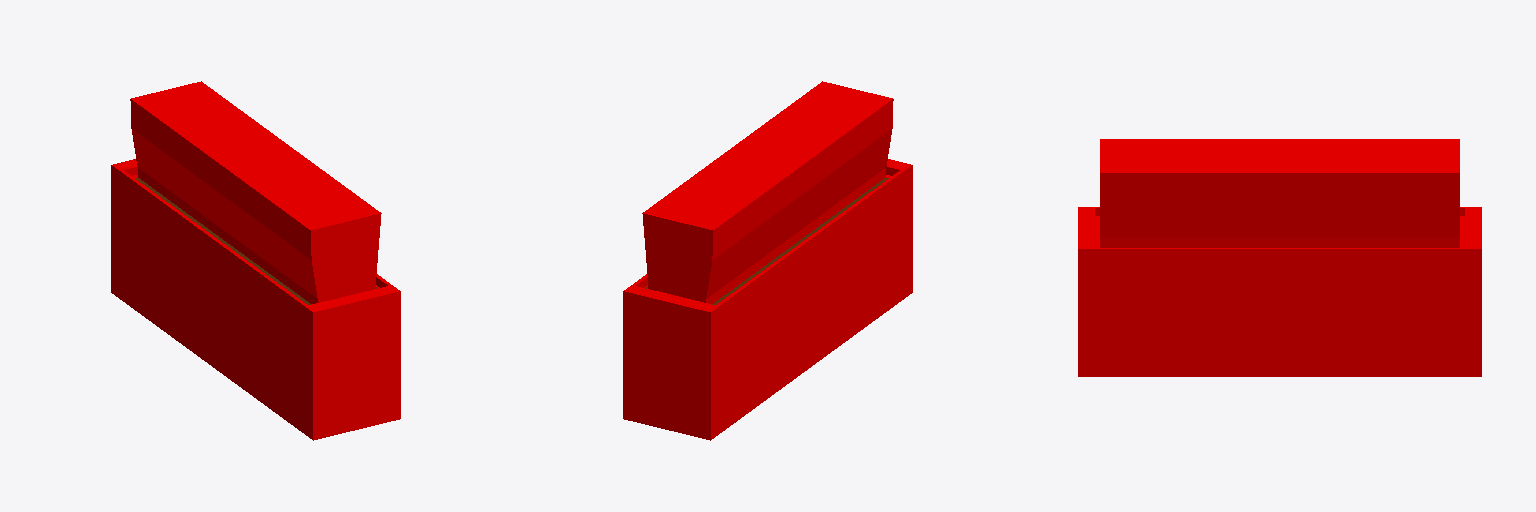
File: largeHedge.obj
3 views of the same model, side by side, from view 1: azimuth 30°, elevation 25°; view 2: azimuth 150°, elevation 25°; view 3: azimuth 270°, elevation 25° (orthographic).
Parts seen in each view (by area): view 1: Hedge1.001_Cube.033; view 2: Hedge1.001_Cube.033; view 3: Hedge1.001_Cube.033.
Part boxes in pixels (bbox=[...]): Hedge1.001_Cube.033: bbox=[111, 81, 400, 440]; Hedge1.001_Cube.033: bbox=[623, 81, 912, 440]; Hedge1.001_Cube.033: bbox=[1078, 139, 1481, 376].
Size of the model in its own units: 0.25 by 0.547 by 1.